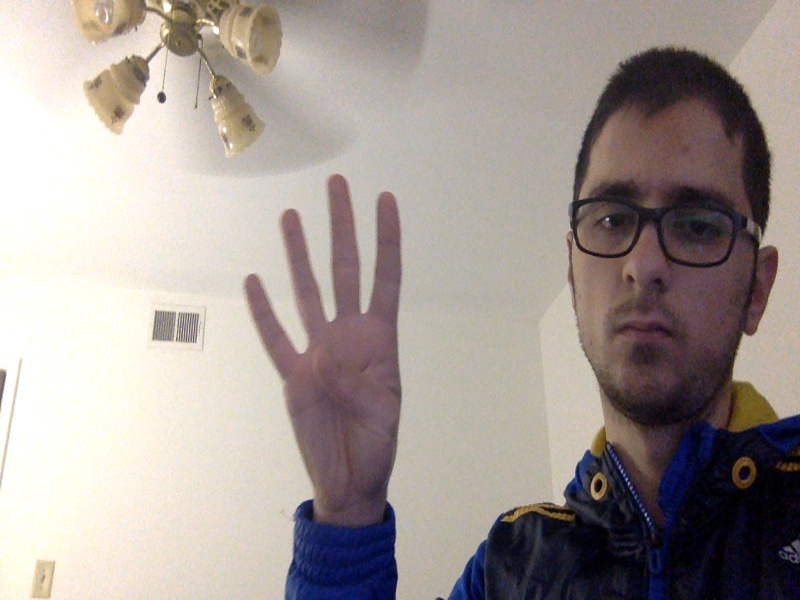4-hand: (241, 171, 403, 514)
